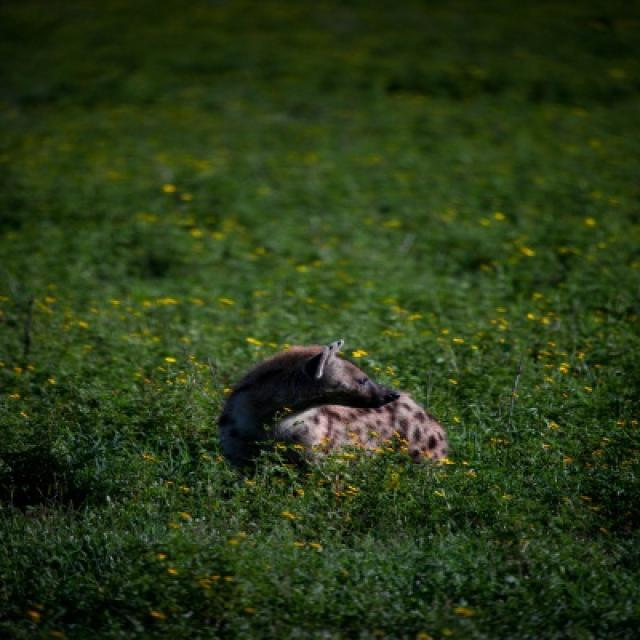hyena: (216, 346, 450, 470)
